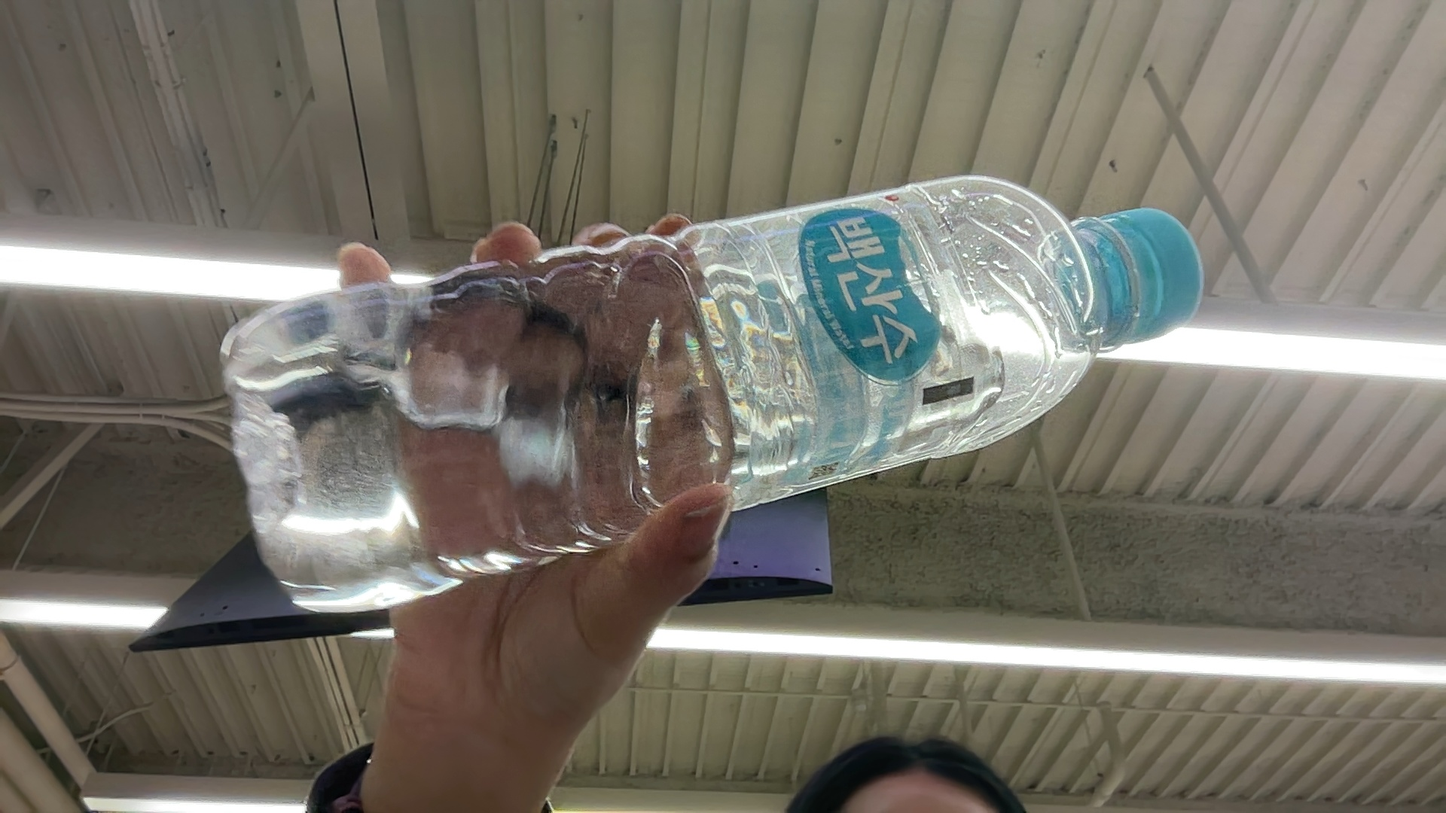Plastic: (7, 409, 241, 608)
